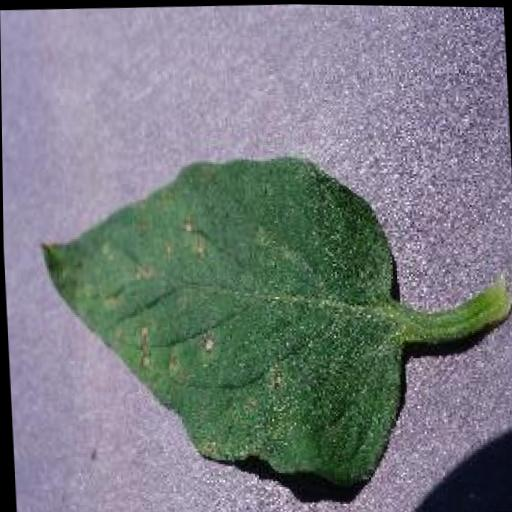Septoria: (32, 142, 408, 501)
